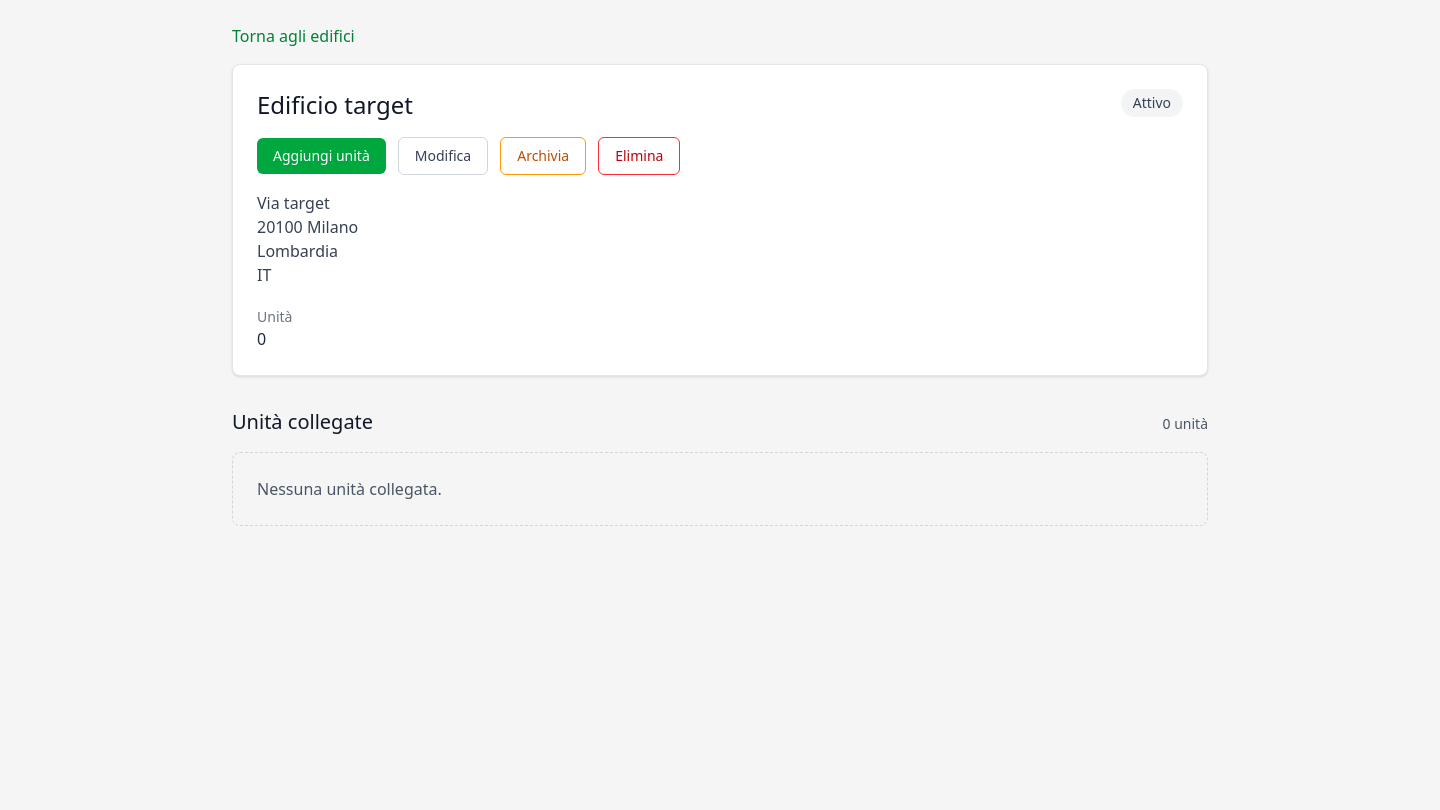
A6.4 Building detail lifecycle › mostra le azioni active e annulla il modal senza mutazioni
This screenshot has width=1440, height=810.
Check: the link "Aggiungi unità" is shown, box top-left (257, 138), bottom-right (386, 174)
Check: the button "Modifica" is shown, box top-left (398, 137), bottom-right (488, 175)
Click the button "Archivia": (543, 156) top-left (500, 137), bottom-right (586, 175)
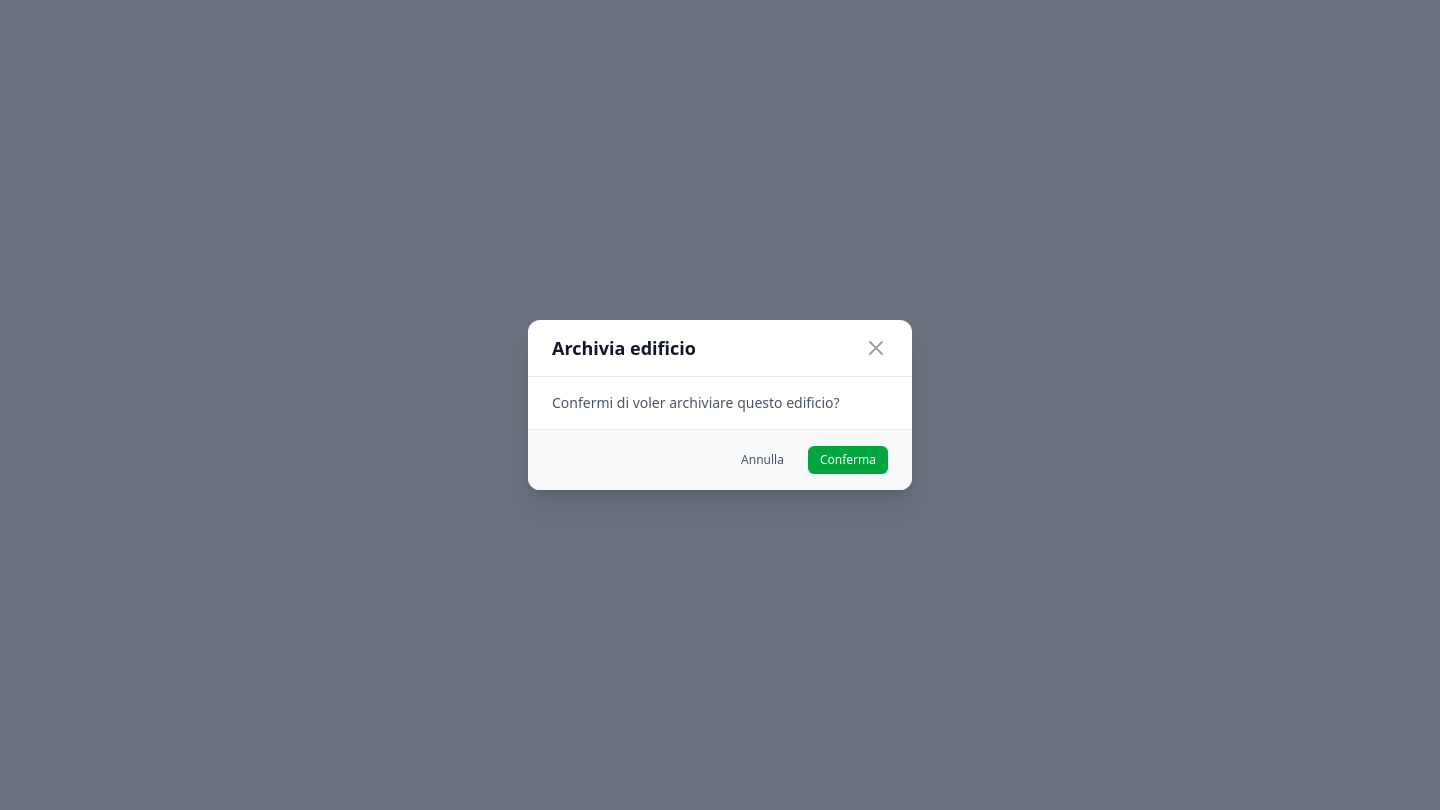
Check: the heading "Archivia edificio" is shown, box top-left (552, 336), bottom-right (696, 360)
Click the button "Annulla": (762, 460) top-left (729, 446), bottom-right (796, 474)
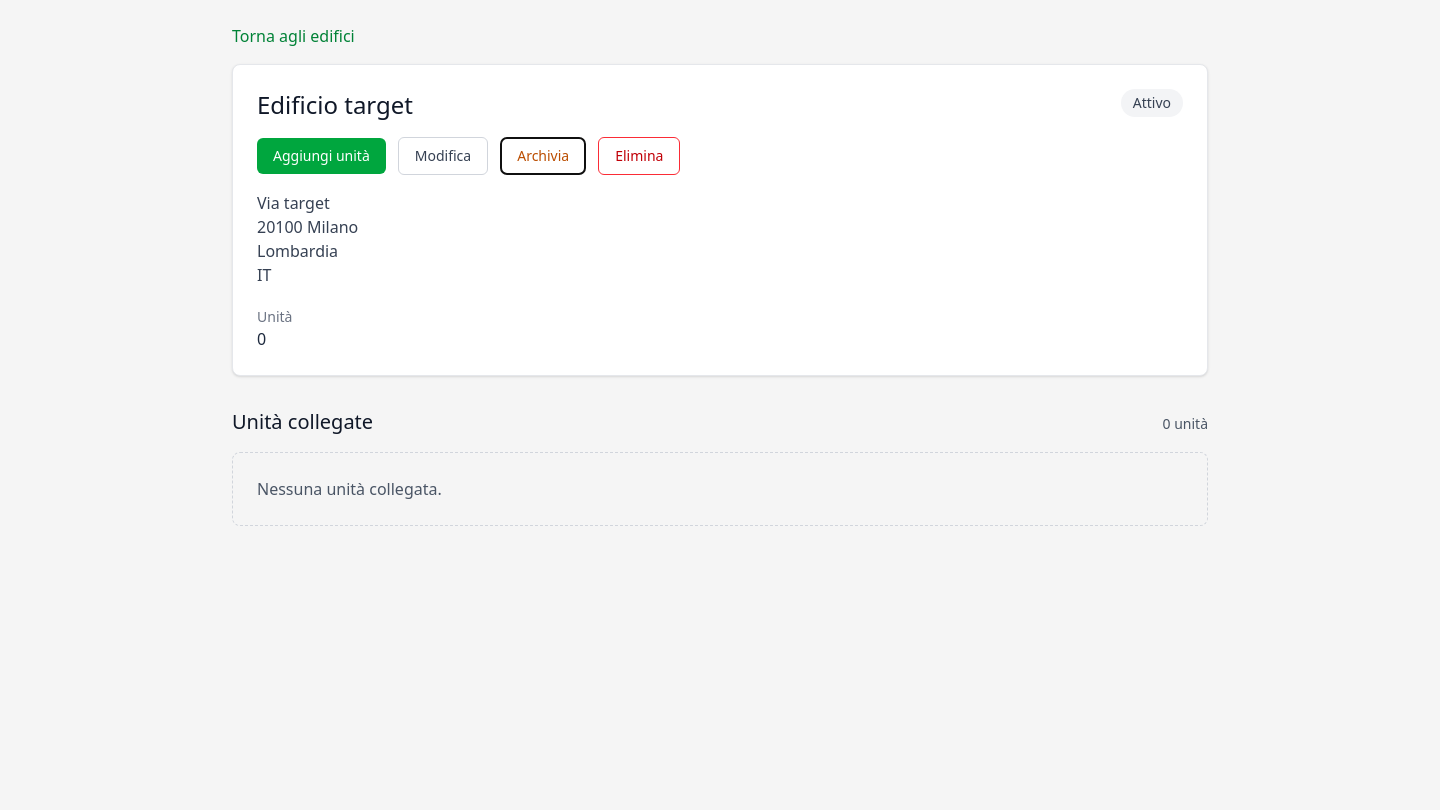
Check: the heading "Archivia edificio" is gone
